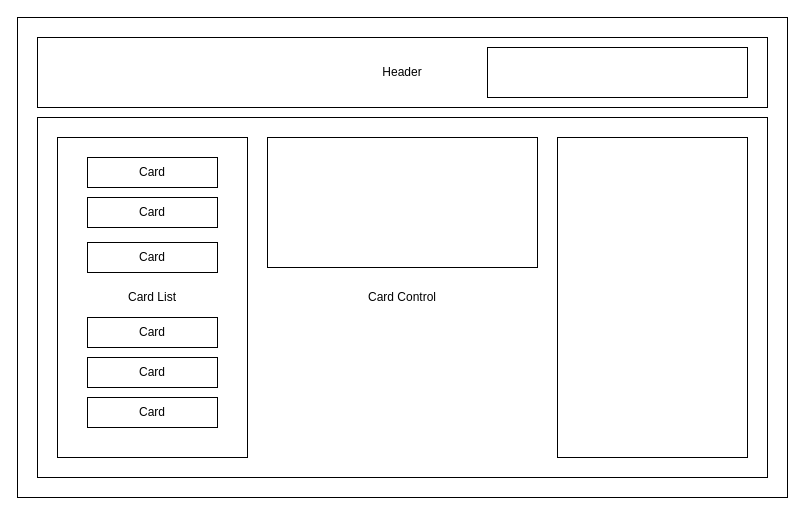
This 805x515 diagram has some shape labels left out. The shapes that lost their labels are listed below. From the top down, each one's centre as x and y in pixels, then its label:
At [617,72]: "SignIn".
At [402,202]: "Card Form".
At [652,297]: "Card Details".
